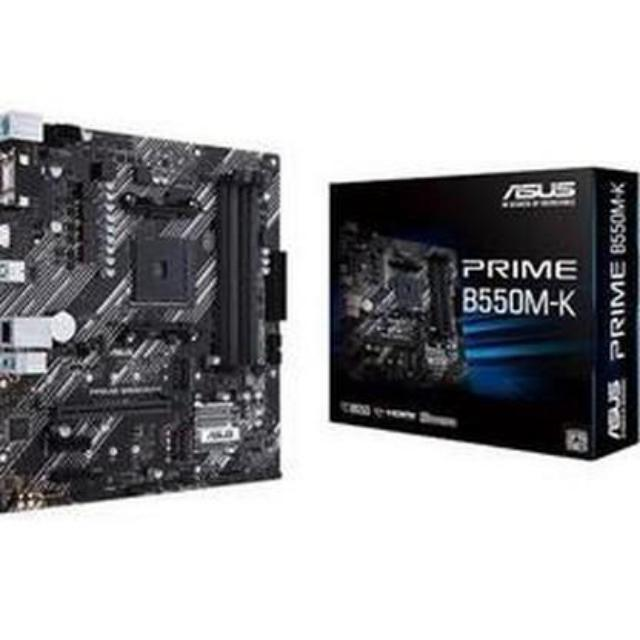Mainboard: (0, 97, 294, 526)
